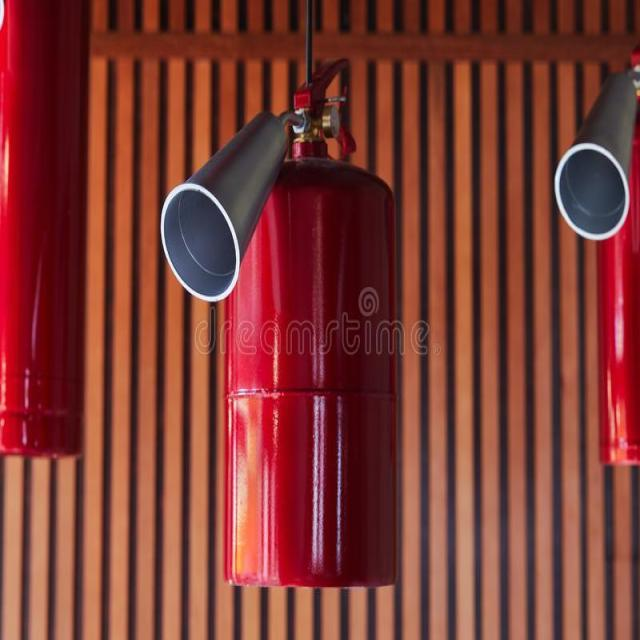fire_extinguisher: (154, 52, 406, 592), (0, 0, 90, 471), (546, 49, 639, 474)
